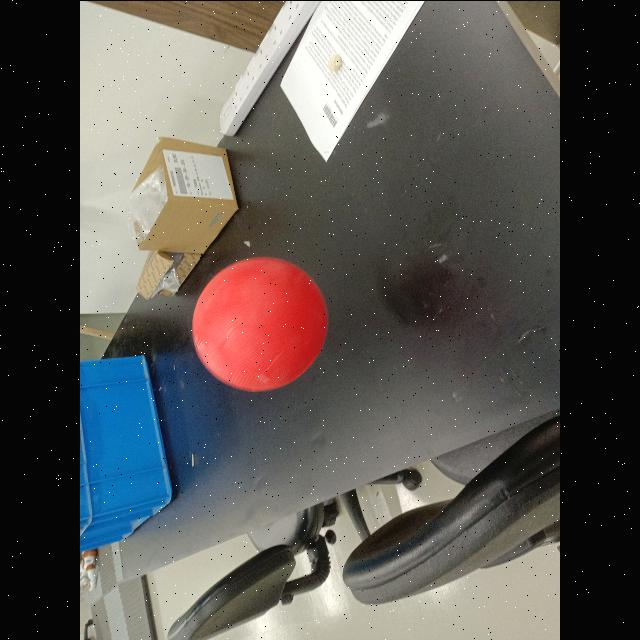R: (185, 252, 332, 396)
